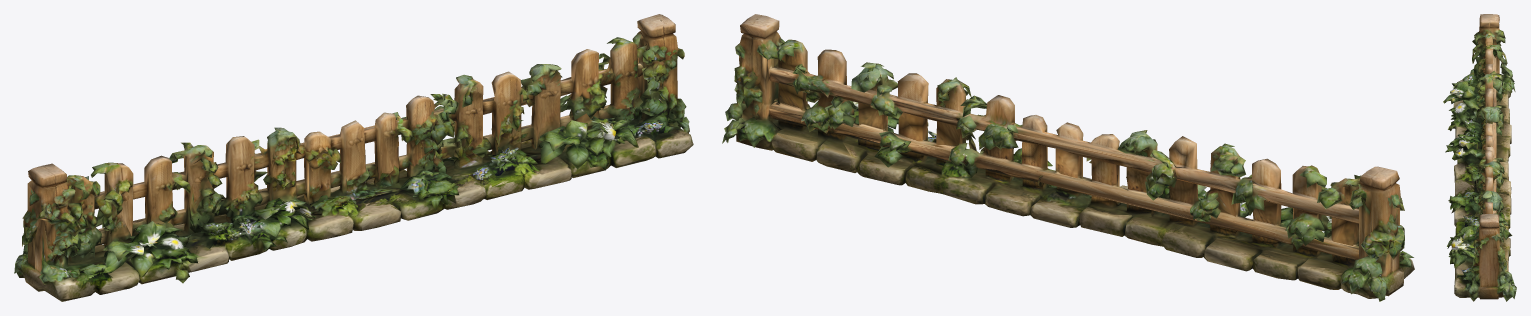
The model's file is front_enclosure.glb.
The picture shows the model from 3 angles, left to right: view 1: azimuth 30°, elevation 25°; view 2: azimuth 150°, elevation 25°; view 3: azimuth 270°, elevation 25°; orthographic projection. The views are drawn at different scales.
Parts seen in each view (by area): view 1: tripo_node_54f3a337; view 2: tripo_node_54f3a337; view 3: tripo_node_54f3a337.
Part boxes in pixels (x1,y1,x2,y2): tripo_node_54f3a337: (14, 14, 693, 301); tripo_node_54f3a337: (722, 14, 1414, 301); tripo_node_54f3a337: (1443, 14, 1516, 301).
Bounding box in the file's own units: 3.2 × 0.5494 × 0.4619.
Materials: 1 (1 with a texture image).
